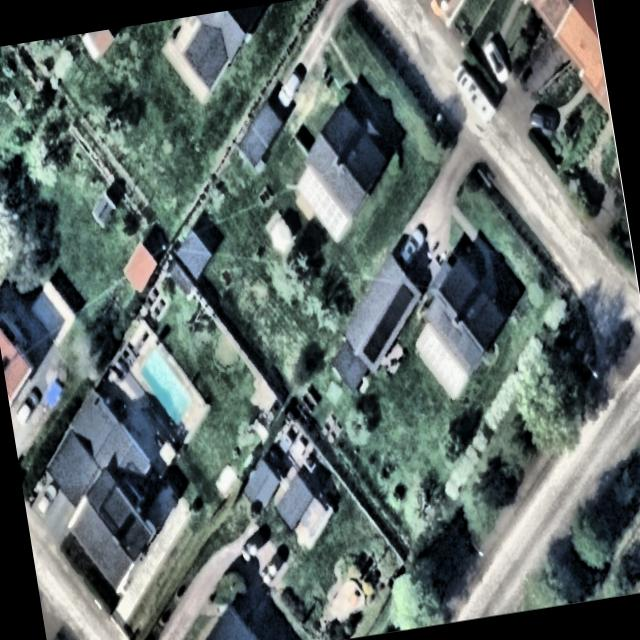roof_pv: (354, 278, 426, 367)
